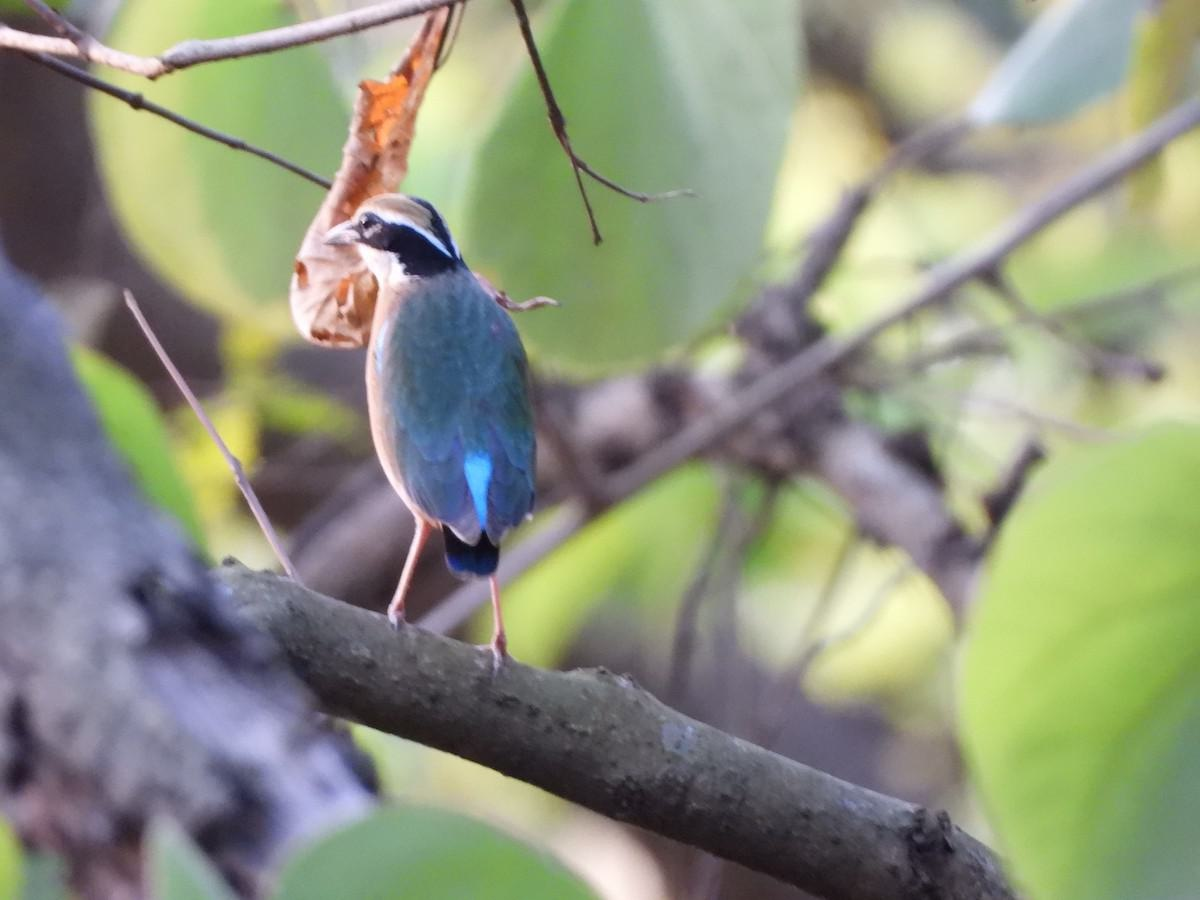pitta: (270, 166, 604, 713)
